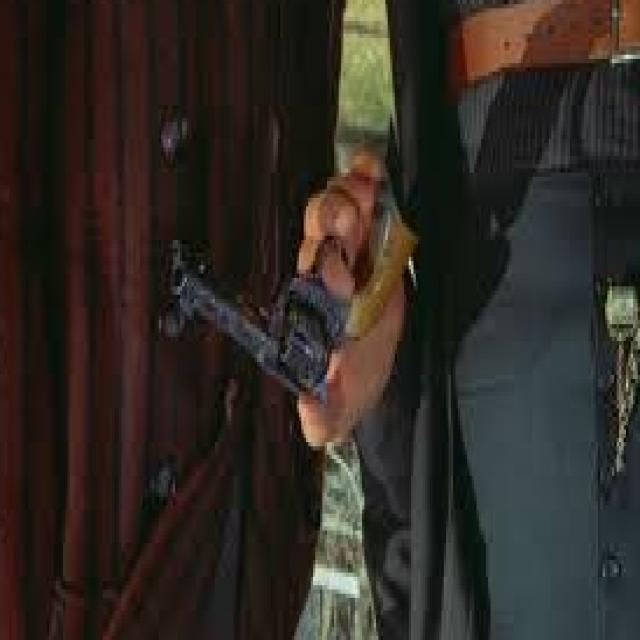gun: (140, 120, 408, 420)
